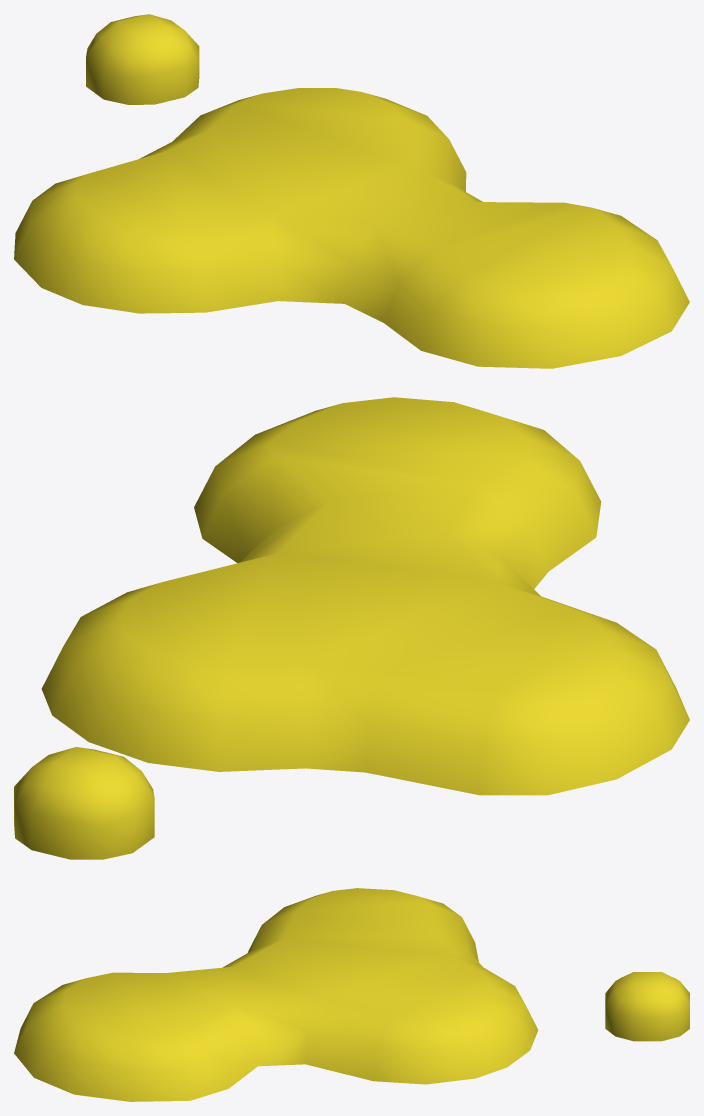
The model's file is honey_spill.glb.
3 renders of one model, top to bottom at view 1: azimuth 30°, elevation 25°; view 2: azimuth 150°, elevation 25°; view 3: azimuth 270°, elevation 25°, orthographic. The views are drawn at different scales.
Visible parts, largest first — view 1: ColorSpot2; view 2: ColorSpot2; view 3: ColorSpot2.
Part boxes in pixels (left/top/right/bottom): ColorSpot2: left=14, top=14, right=689, bottom=368; ColorSpot2: left=14, top=397, right=689, bottom=859; ColorSpot2: left=14, top=888, right=689, bottom=1101.
Bounding box in the file's own units: 1.54 × 0.1731 × 2.33.
